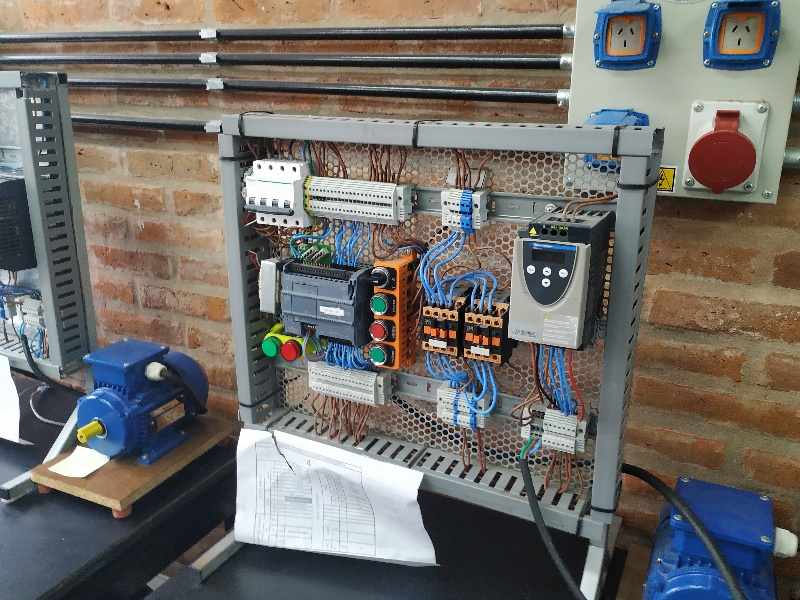Tablero 4: (232, 124, 613, 512)
